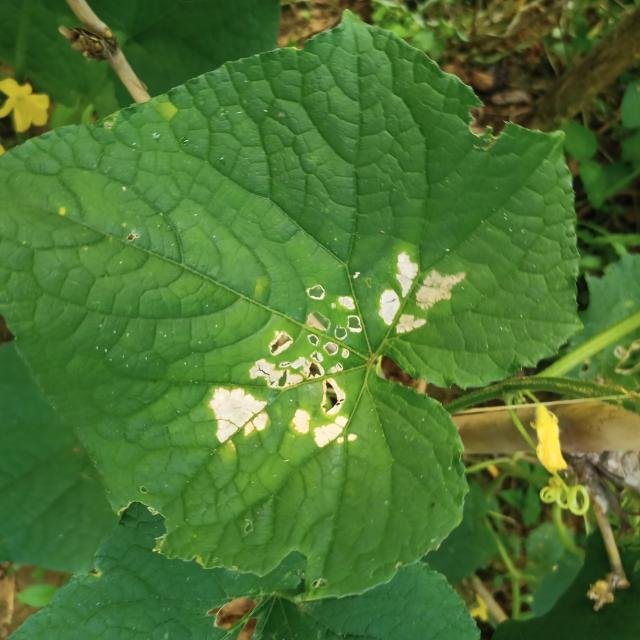disease_cucumber: (206, 268, 361, 463), (368, 239, 471, 346)
